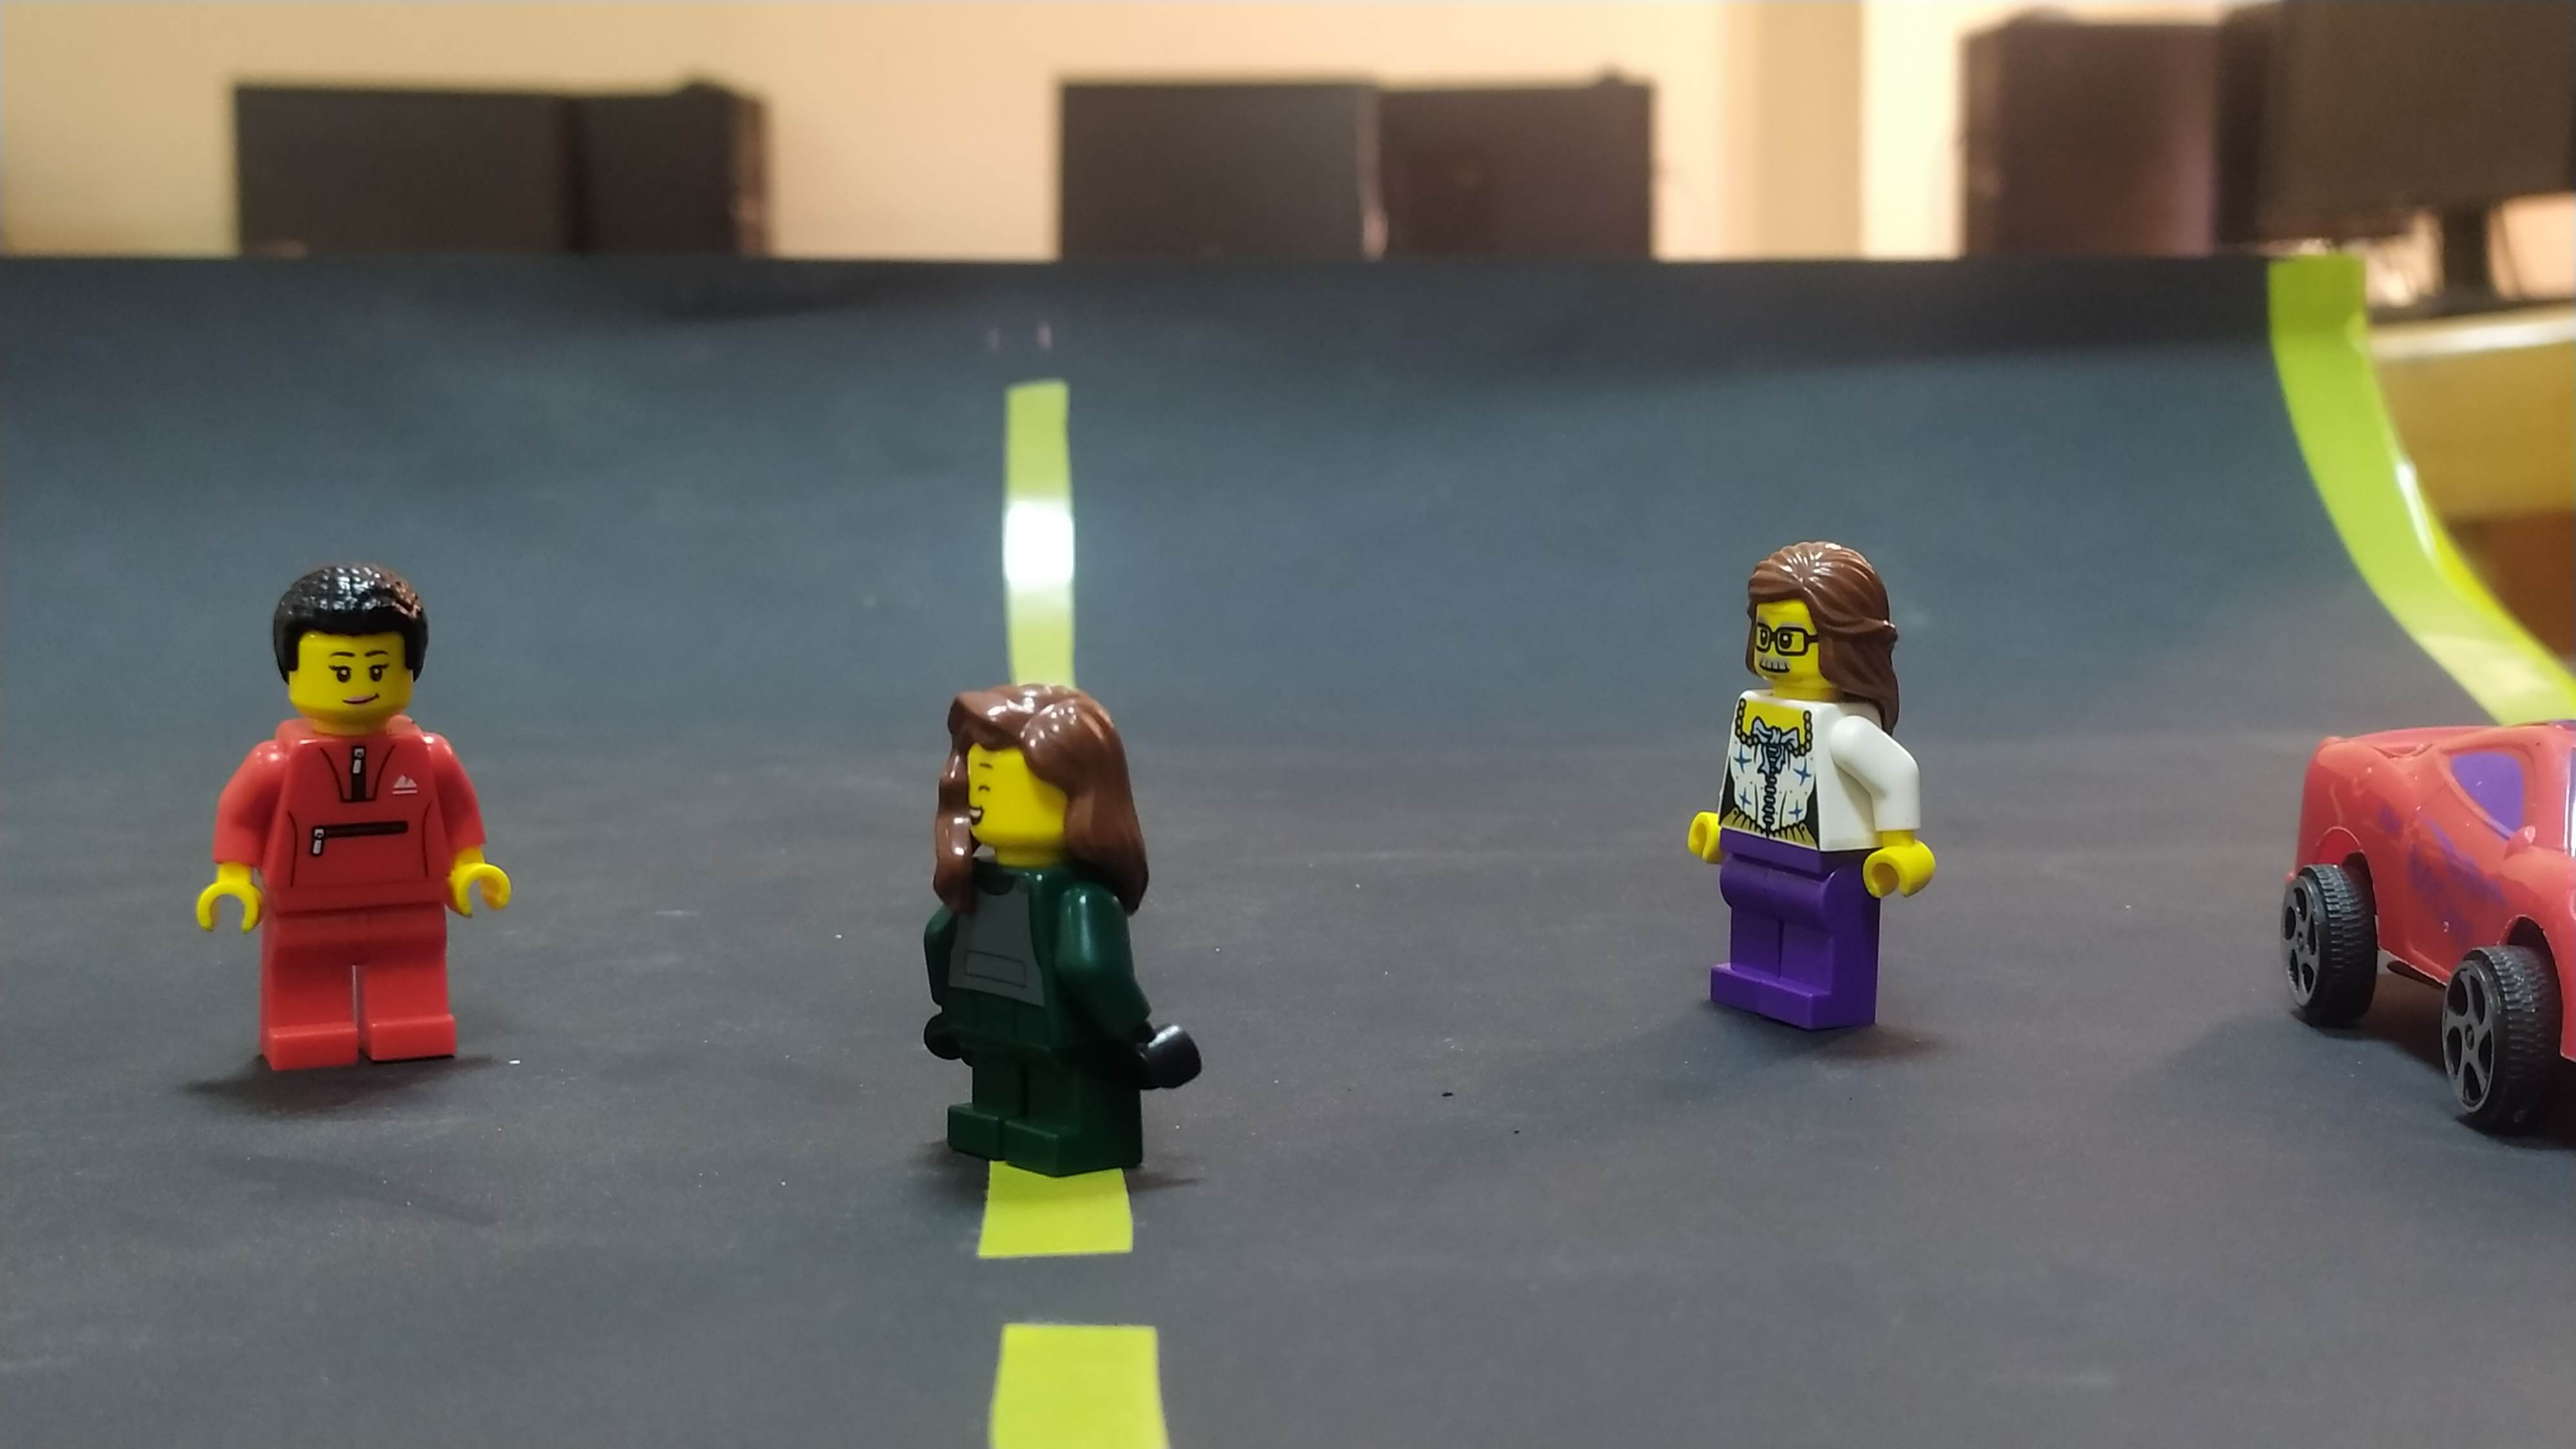Car: (2302, 705, 2576, 1127)
Person: (209, 563, 518, 1085), (873, 686, 1201, 1175), (1671, 570, 1948, 1053)
